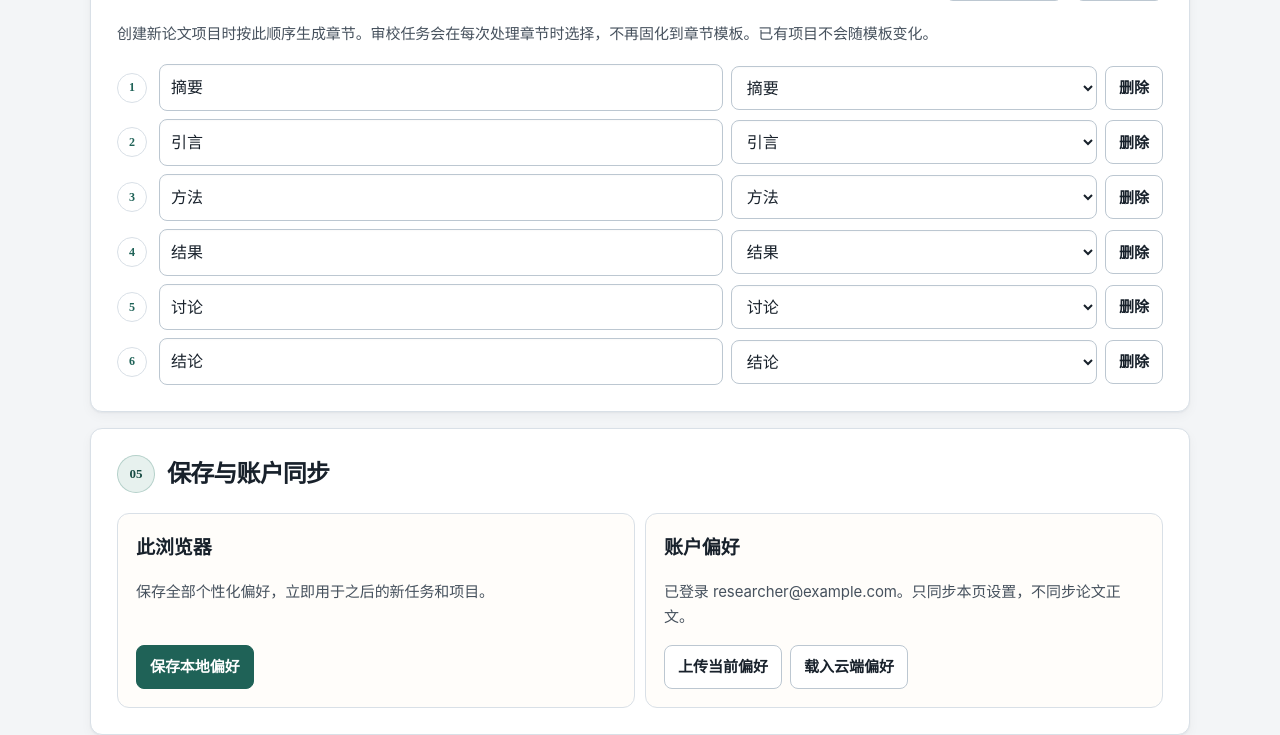
Test: PreferencesManager › downloads and validates cloud preferences before asking permission, but does not replace local data until confirmed
(page scrolled)
Click the button "载入云端偏好".
click(849, 667)  # box left=790, top=645, right=908, bottom=689
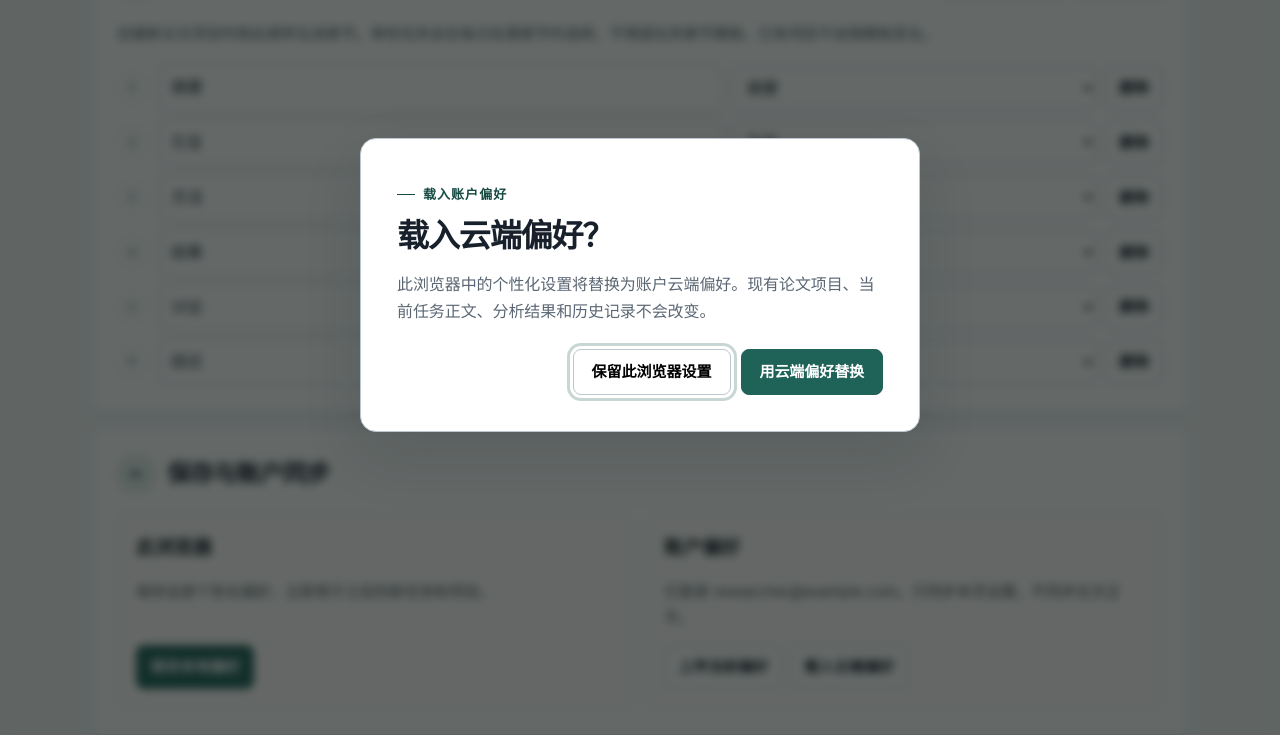
Click the button "用云端偏好替换".
click(812, 372)  # box left=740, top=349, right=883, bottom=395
(page scrolled)
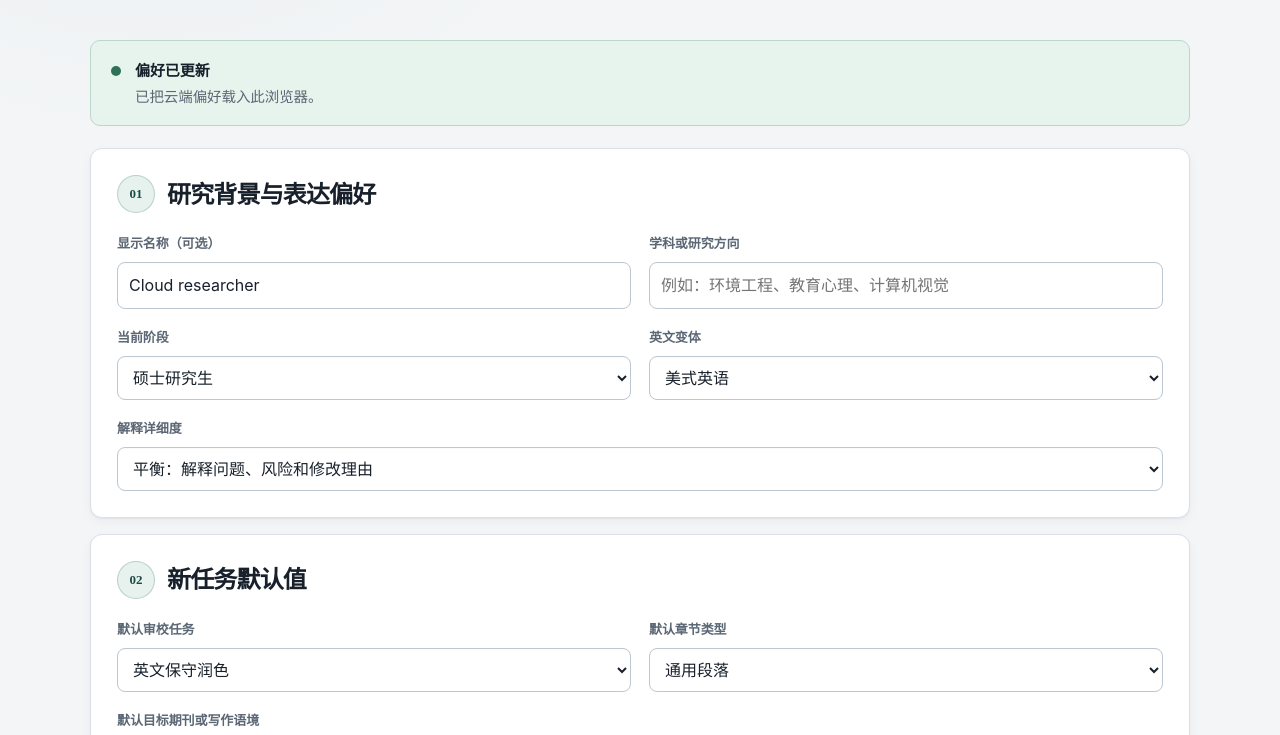
Result: the field labelled "显示名称（可选）" holds "Cloud researcher" at left=117, top=262, right=631, bottom=309
